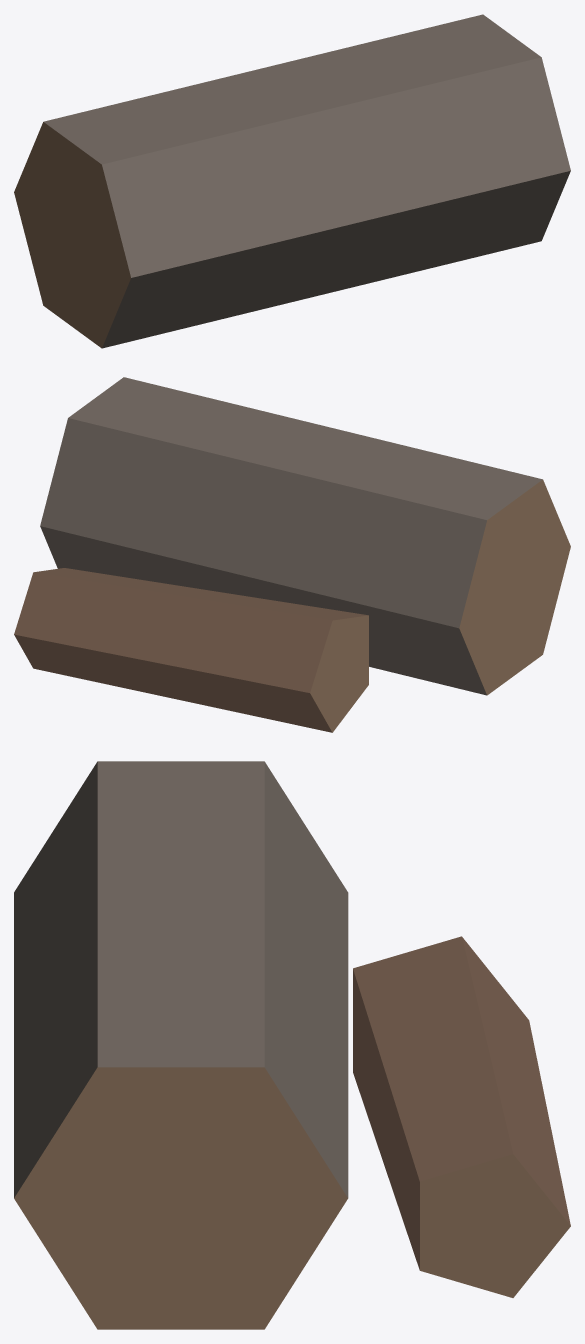
The model's file is resource_wood.glb.
3 views of the same model, one above another, from view 1: azimuth 30°, elevation 25°; view 2: azimuth 150°, elevation 25°; view 3: azimuth 270°, elevation 25° (orthographic). The views are drawn at different scales.
Parts seen in each view (by area): view 1: Resource_Wood; view 2: Resource_Wood; view 3: Resource_Wood.
Boxes of the visible parts, box(x1,y1,x2,y2) form: Resource_Wood: box(14, 14, 570, 348); Resource_Wood: box(14, 377, 570, 732); Resource_Wood: box(14, 761, 570, 1329).
Bounding box in the file's own units: 0.52 × 0.2205 × 0.4.
